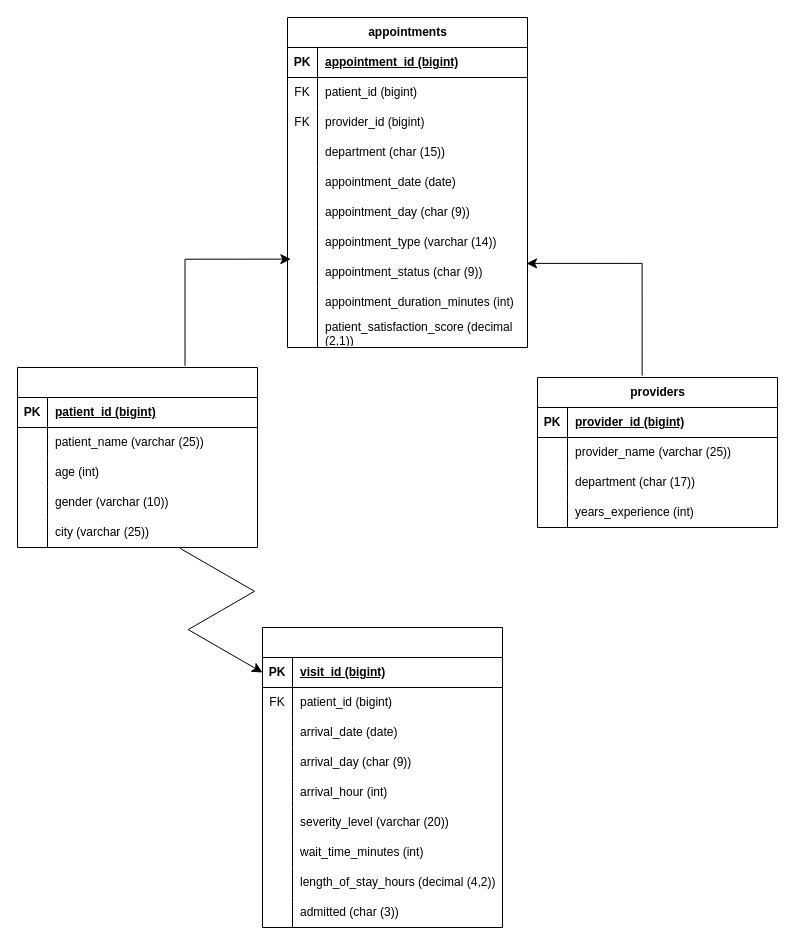
The diagram is 795 pixels wide and 945 high, and some of its shapes have lost their labels. The box of each missing label's shape, as (x1, y1, x2, y2) in pixels:
er_visits: (262, 626, 502, 928)
patients: (16, 366, 258, 548)
